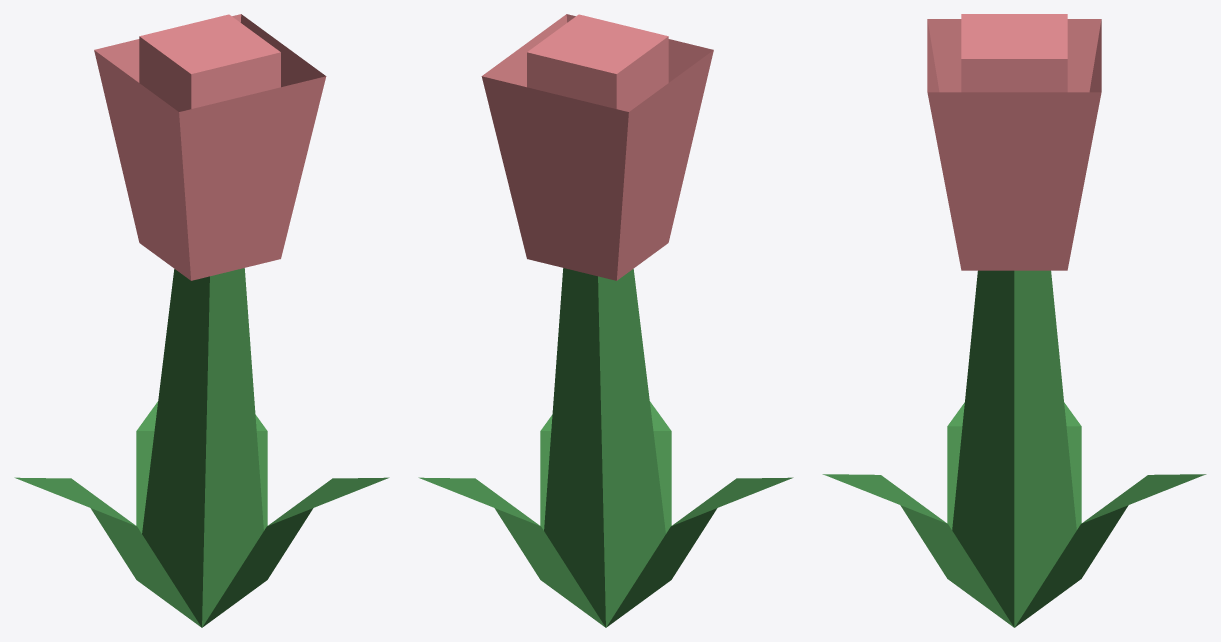
The model's file is flower-red.glb.
3 views of the same model, side by side, from view 1: azimuth 30°, elevation 25°; view 2: azimuth 150°, elevation 25°; view 3: azimuth 270°, elevation 25° (orthographic). The views are drawn at different scales.
Visible parts, largest first — view 1: flower-red; view 2: flower-red; view 3: flower-red.
Part boxes in pixels (x1,y1,x2,y2): flower-red: (14, 14, 389, 627); flower-red: (418, 14, 793, 627); flower-red: (822, 14, 1206, 627).
Size of the model in its own units: 0.2992 by 0.55 by 0.3405.
